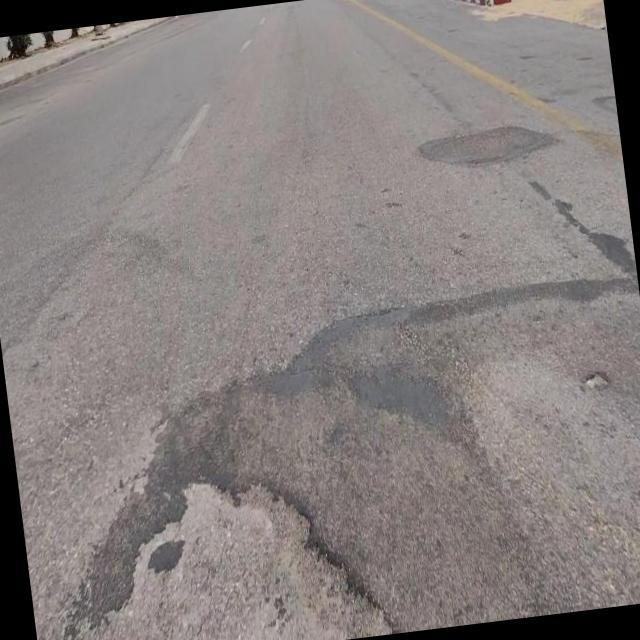Pothole: (71, 475, 399, 640)
